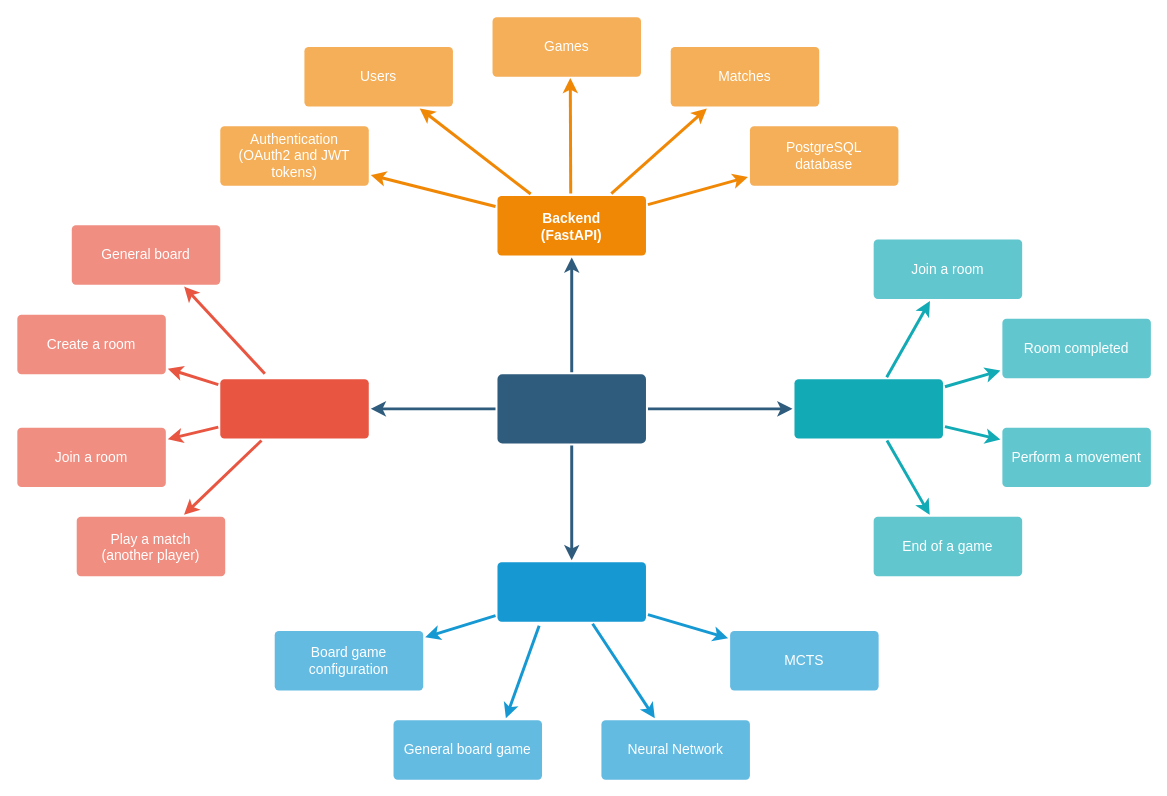
This 1167x796 diagram has some shape labels left out. Here are the shapes that lost their labels. From the top down, the centre of each, then its label:
At [294,408]: "Web-based frontend (Vue.js)".
At [571,408]: "Automatic player generator".
At [868,408]: "Match backend (socket.io)".
At [571,591]: "Player backend (AlphaZero)".
